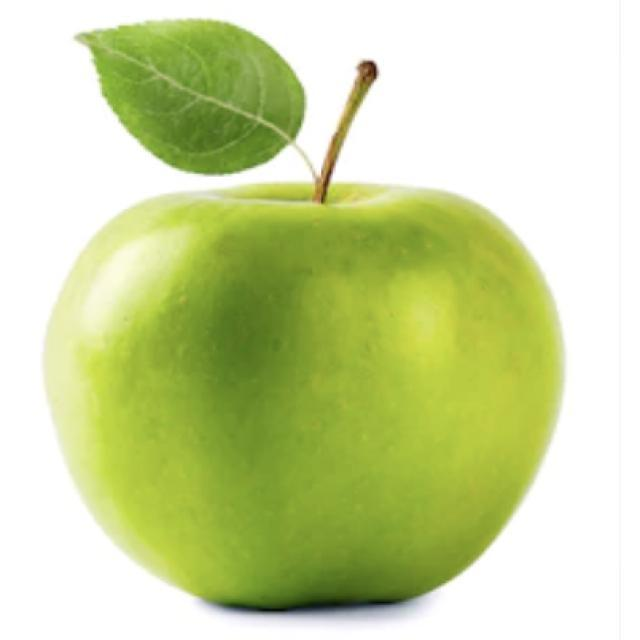Apple: (41, 18, 566, 612)
